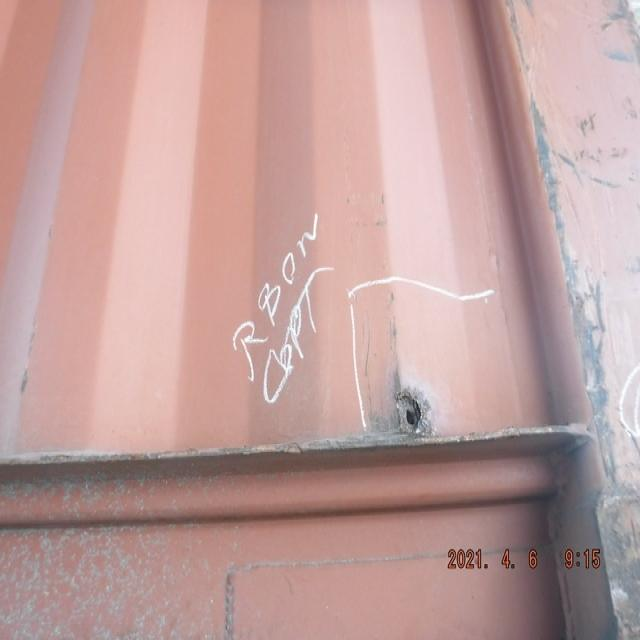hole: (395, 392, 434, 437)
